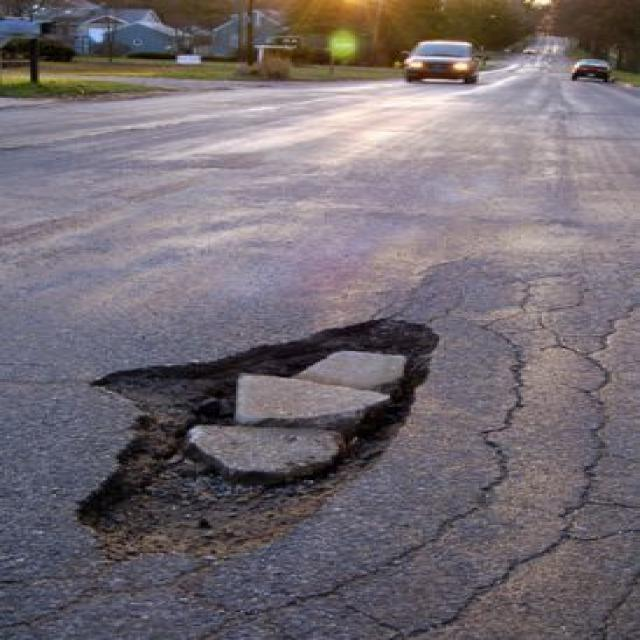pothole: (65, 312, 444, 570)
